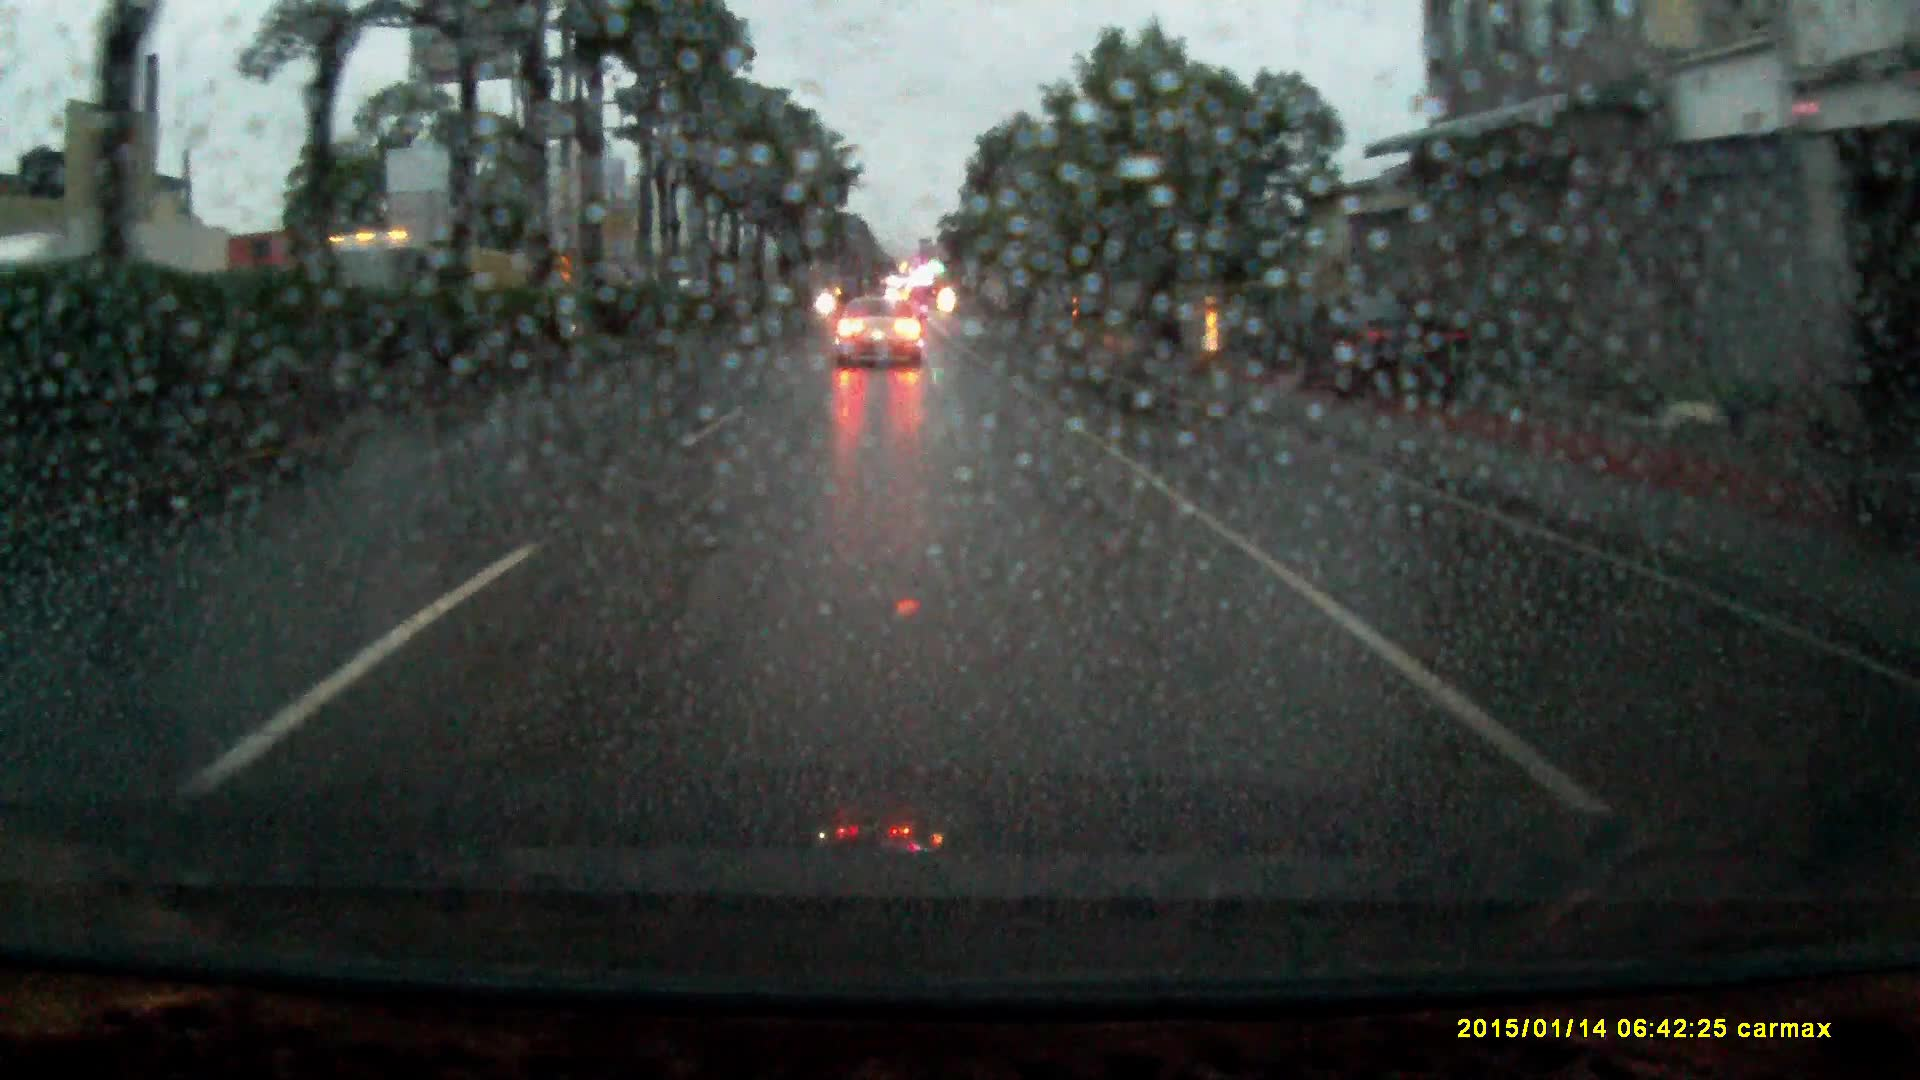vehicle: (297, 229, 526, 345), (1299, 291, 1468, 400), (832, 301, 926, 372)
